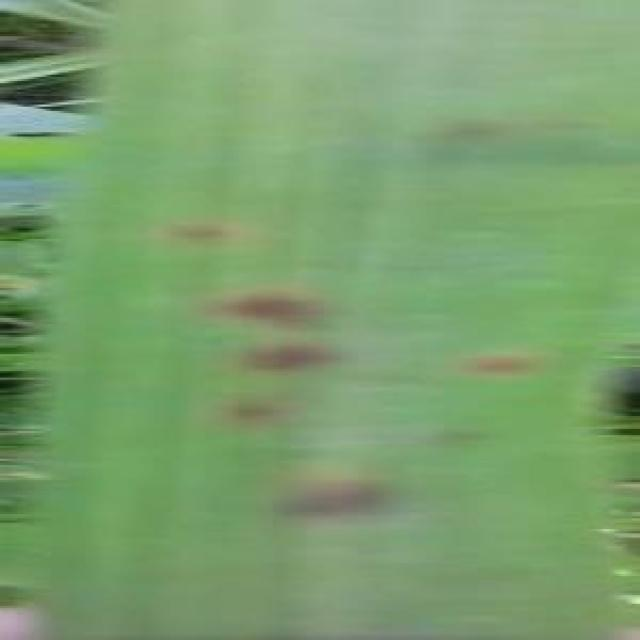Brown_Spot: (252, 474, 413, 522), (203, 288, 346, 329), (235, 333, 360, 371), (454, 346, 550, 380), (203, 392, 294, 418), (178, 215, 225, 248)
